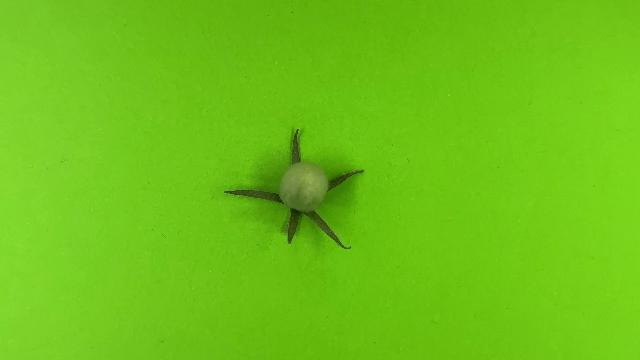Fruit Maturation: (277, 161, 330, 213)
